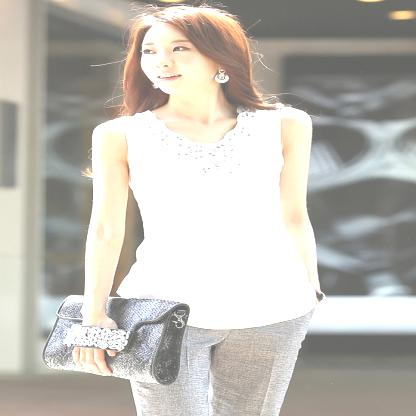jacket: (118, 107, 315, 329)
